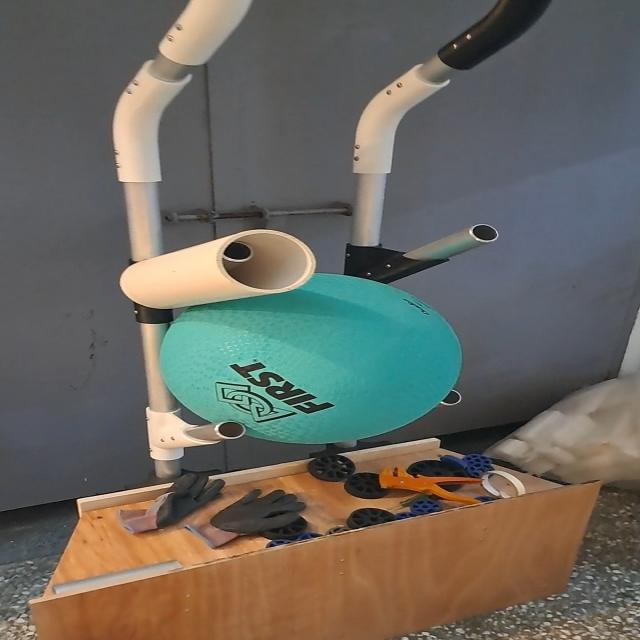ALGAE: (163, 272, 467, 446)
CORAL: (120, 227, 318, 318)
